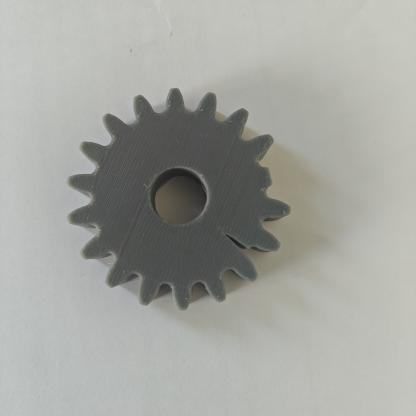defect: (198, 205, 274, 286), (235, 136, 304, 203)
gear: (57, 78, 319, 332)
